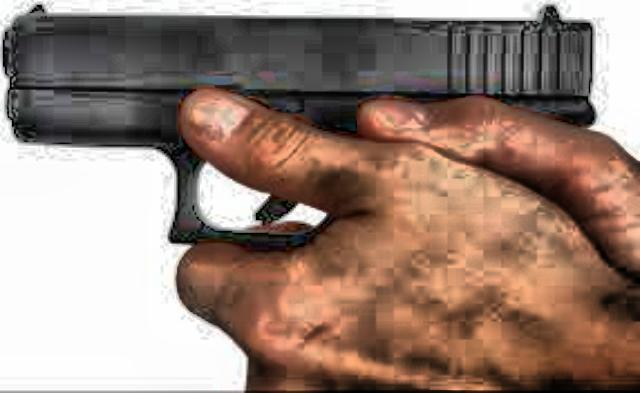pistol: (2, 0, 598, 252)
